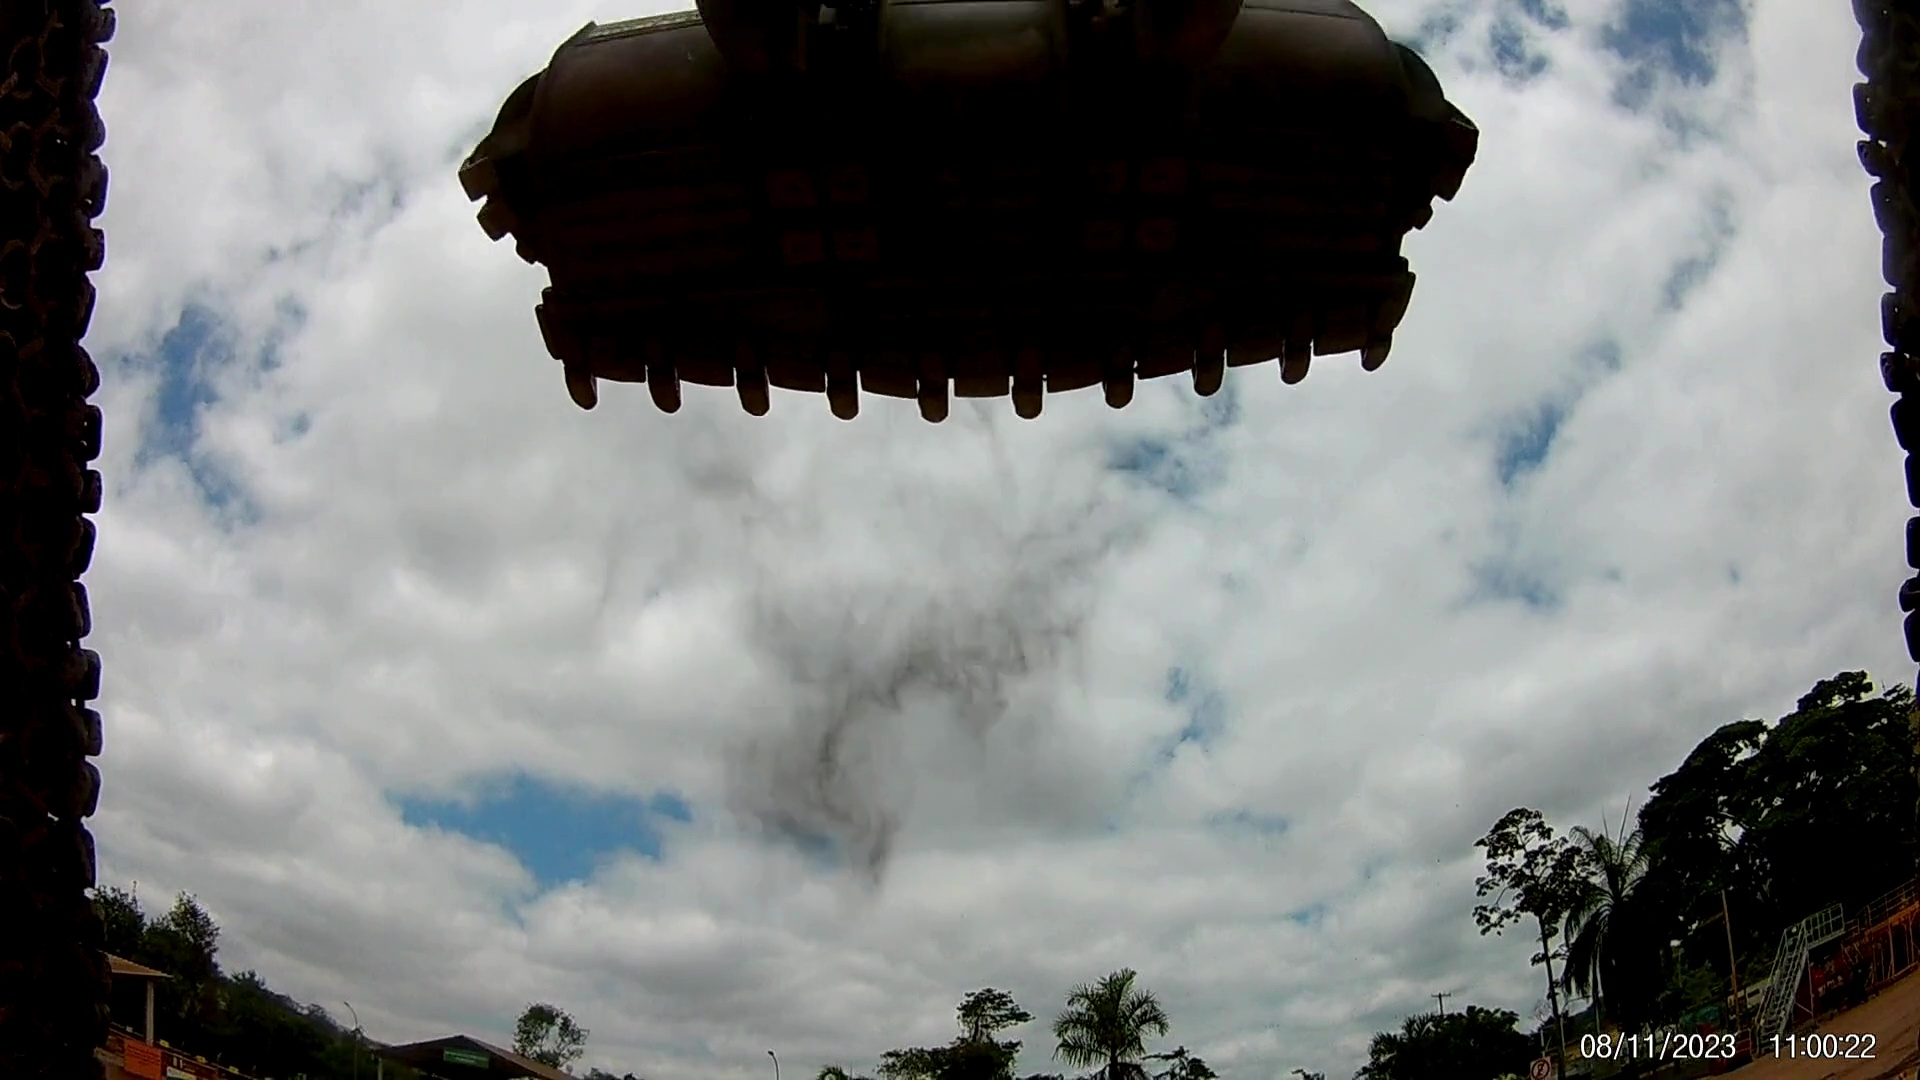FPS: (1258, 328, 1337, 410), (1346, 313, 1406, 407), (1089, 353, 1160, 429), (732, 357, 794, 426), (644, 372, 704, 438), (1192, 353, 1242, 426), (906, 375, 971, 425), (547, 378, 613, 426), (823, 376, 873, 435), (1004, 386, 1062, 419)
